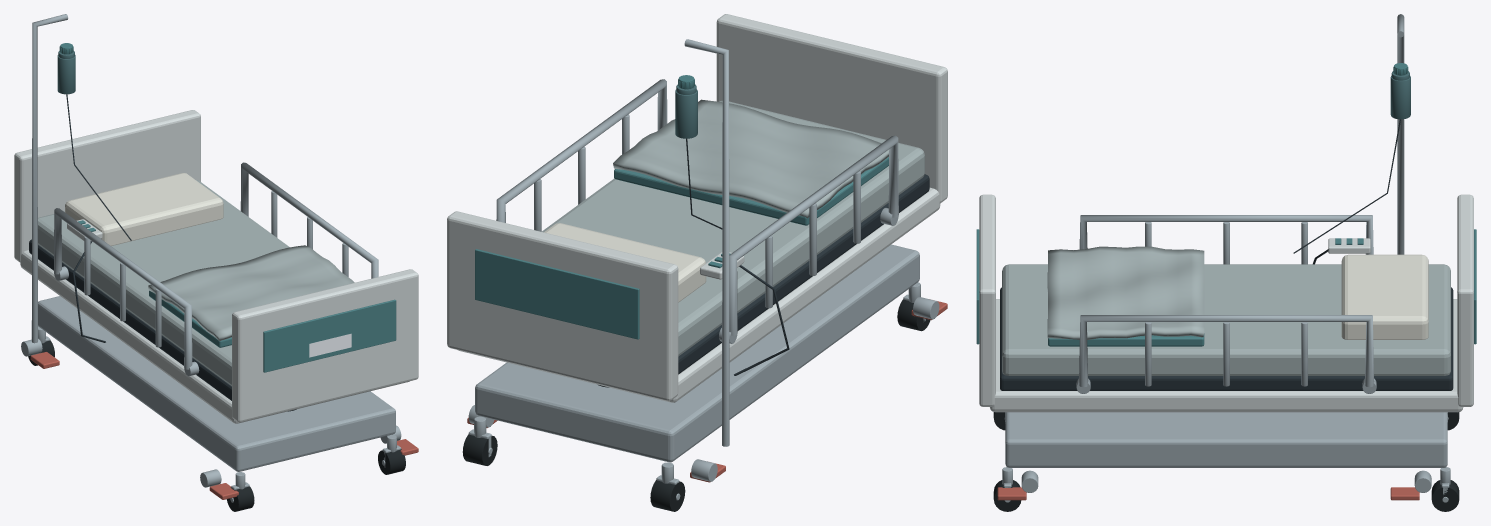
The model's file is SF_MedicalBed.fbx.
The picture shows the model from 3 angles, left to right: view 1: azimuth 30°, elevation 25°; view 2: azimuth 150°, elevation 25°; view 3: azimuth 270°, elevation 25°; orthographic projection. The views are drawn at different scales.
Parts seen in each view (by area): view 1: SF_MedicalBed; view 2: SF_MedicalBed; view 3: SF_MedicalBed.
Boxes of the visible parts, <box> form: SF_MedicalBed: <box>14,14,418,511</box>; SF_MedicalBed: <box>447,14,947,511</box>; SF_MedicalBed: <box>976,14,1476,511</box>.
Size of the model in its own units: 115 by 197 by 224.
